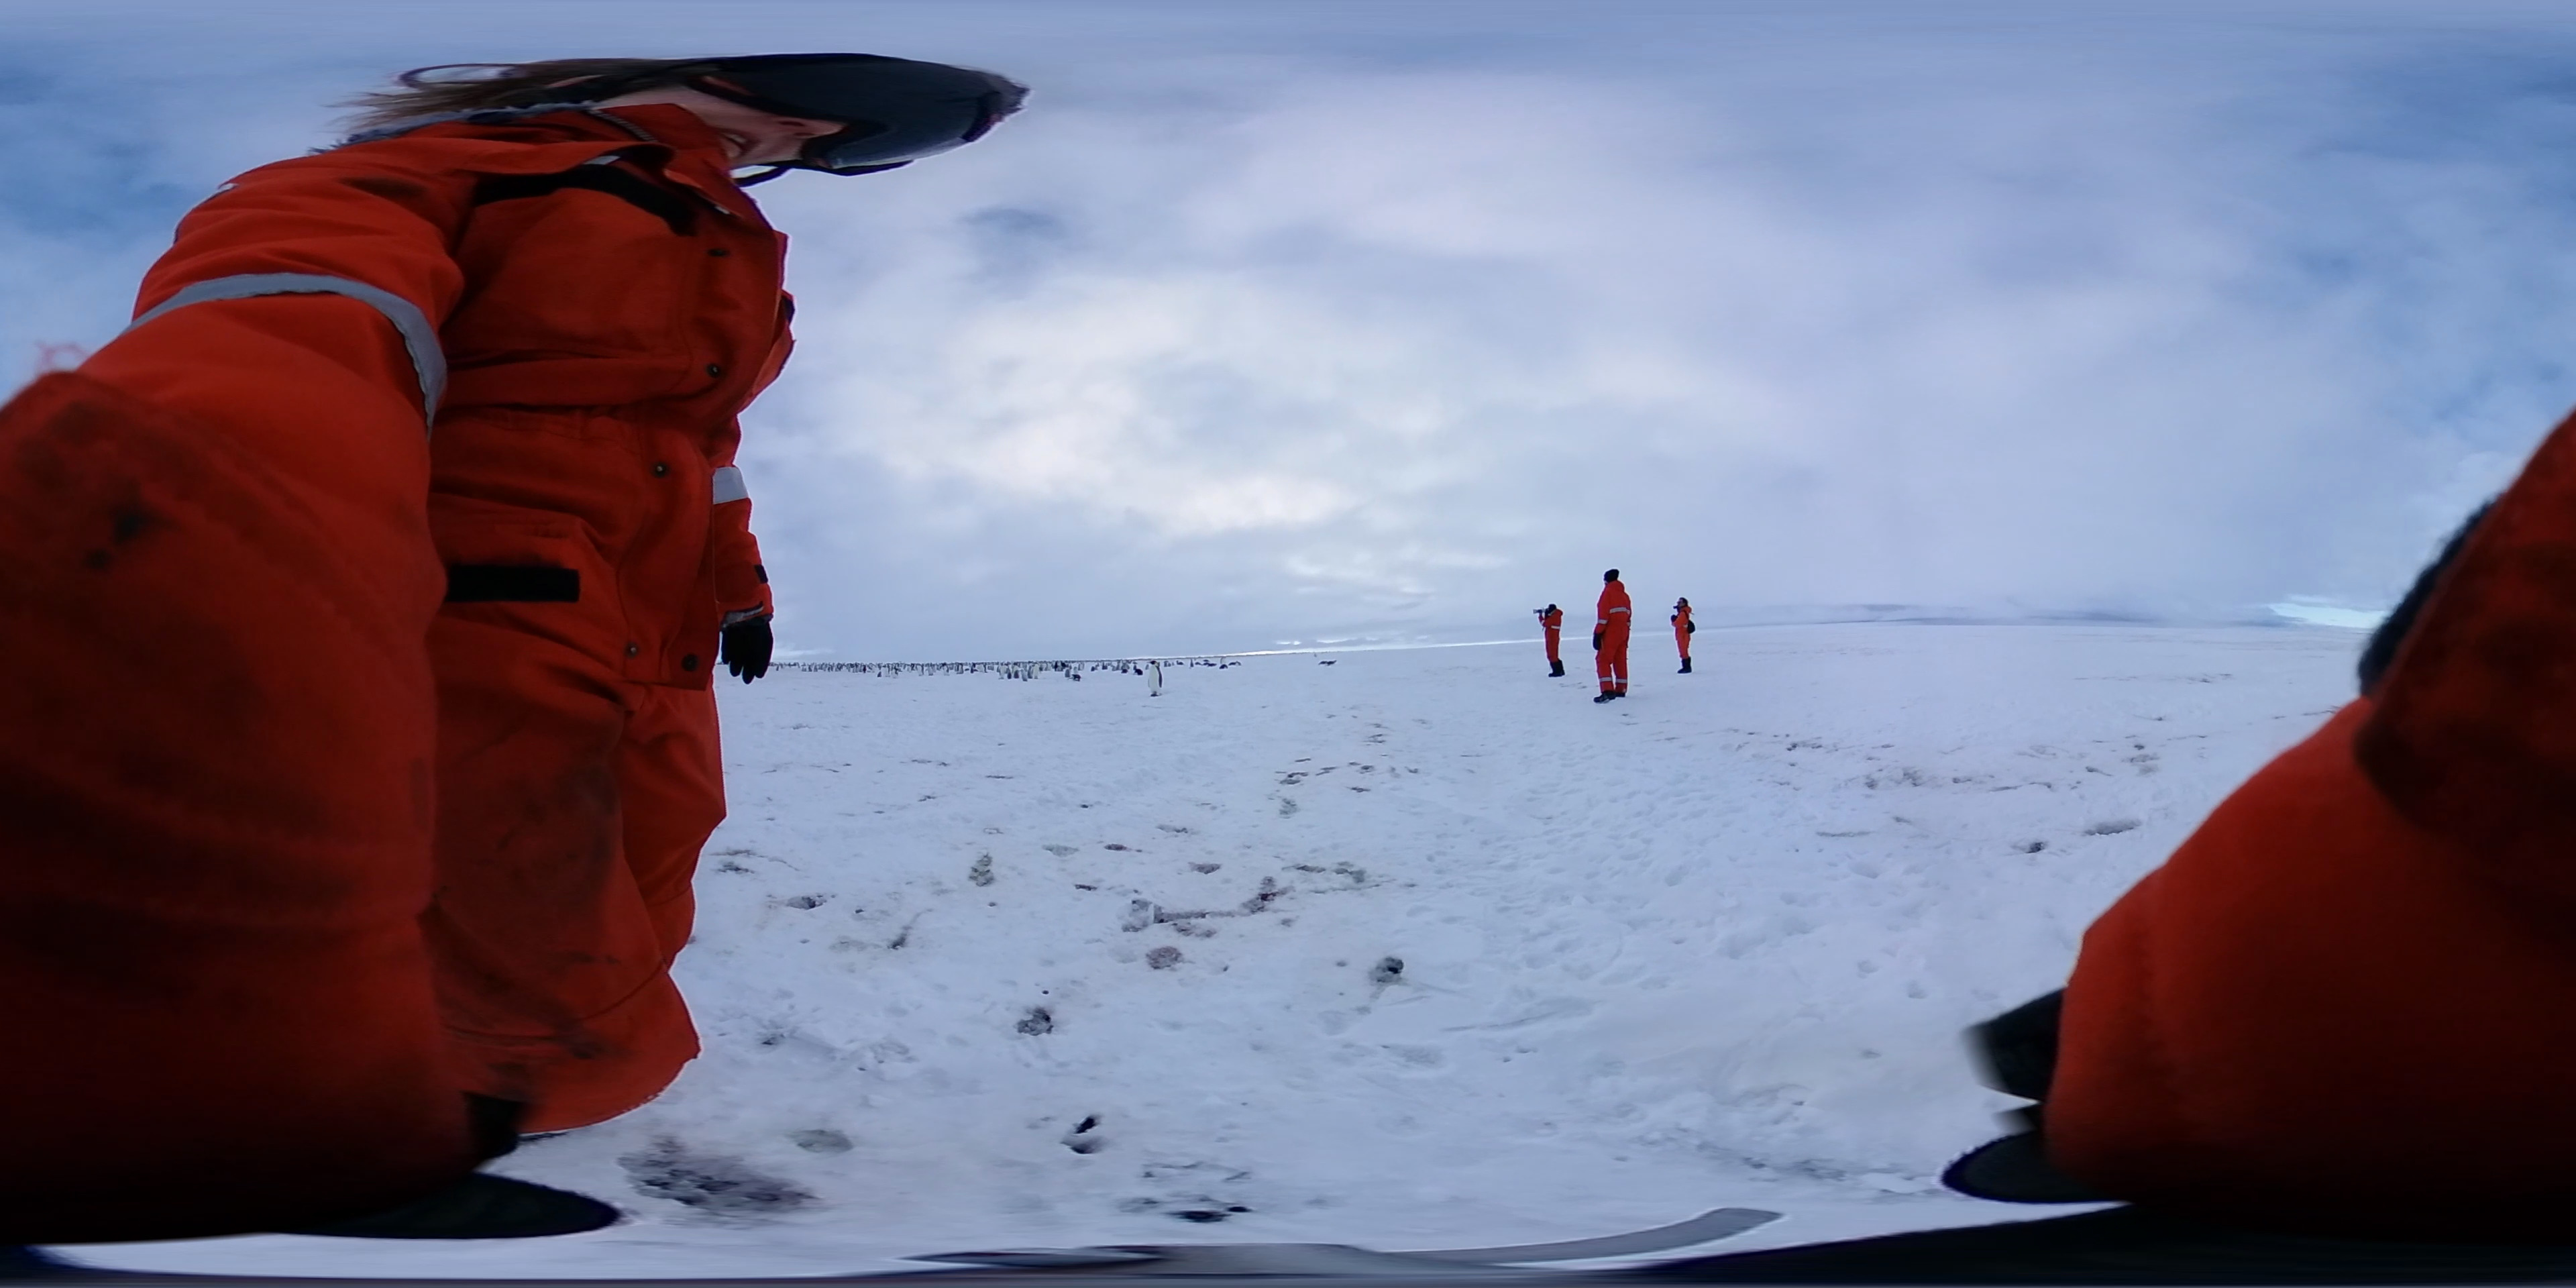adult_standing_penguin: (1145, 659, 1163, 698)
researcher: (31, 34, 1043, 1109), (1589, 568, 1631, 705), (1529, 603, 1566, 678), (1667, 596, 1697, 677)
